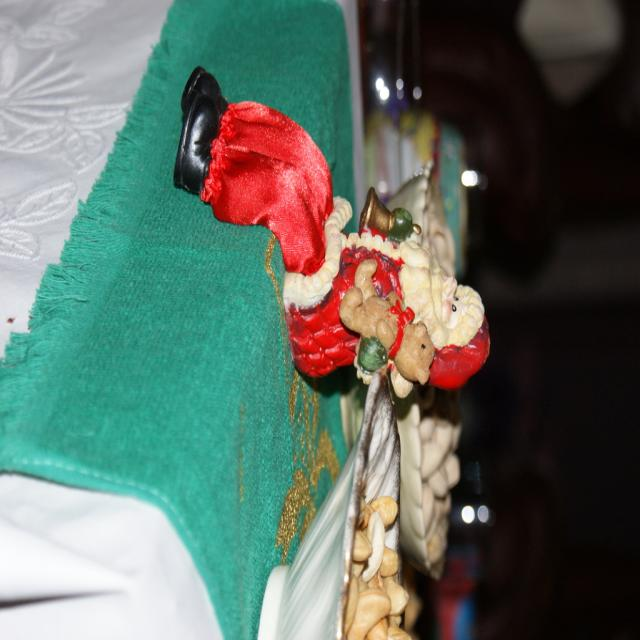Toy: (266, 180, 489, 417)
